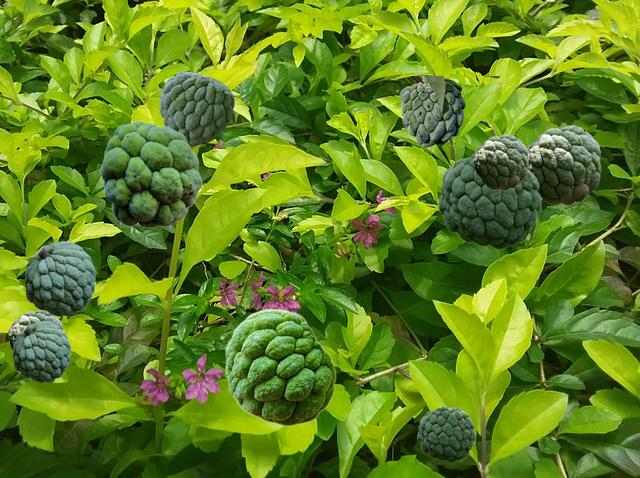atis: (225, 308, 335, 425), (100, 120, 201, 227), (438, 154, 540, 248), (399, 76, 499, 146), (528, 125, 600, 204), (159, 71, 233, 145), (25, 241, 94, 315), (13, 321, 69, 381), (417, 406, 474, 461), (473, 134, 527, 189), (8, 309, 62, 350)
